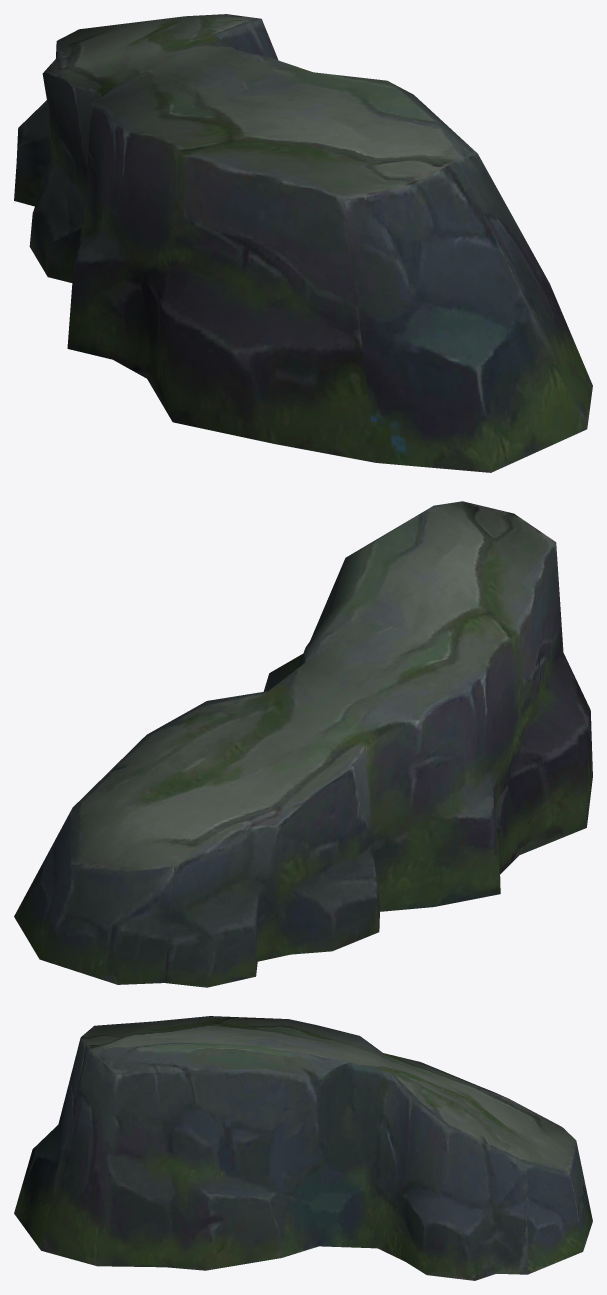
The model's file is h5_shitou_02.FBX.
3 renders of one model, top to bottom at view 1: azimuth 30°, elevation 25°; view 2: azimuth 150°, elevation 25°; view 3: azimuth 270°, elevation 25°, orthographic. The views are drawn at different scales.
Visible parts, largest first — view 1: h5_shitou_02; view 2: h5_shitou_02; view 3: h5_shitou_02.
Boxes of the visible parts, box(x1,y1,x2,y2) form: h5_shitou_02: box(14, 14, 592, 472); h5_shitou_02: box(14, 501, 592, 987); h5_shitou_02: box(14, 1016, 592, 1280).
Bounding box in the file's own units: 9.38 × 6.05 × 17.84.
